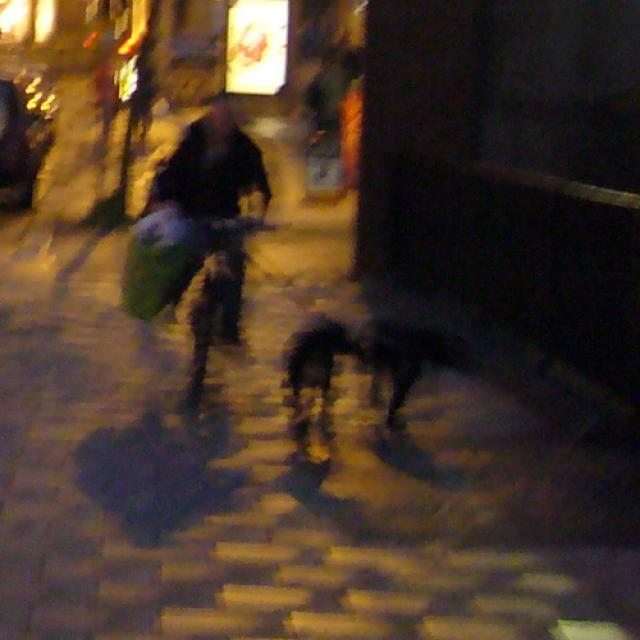Vehicle: (0, 80, 58, 212)
